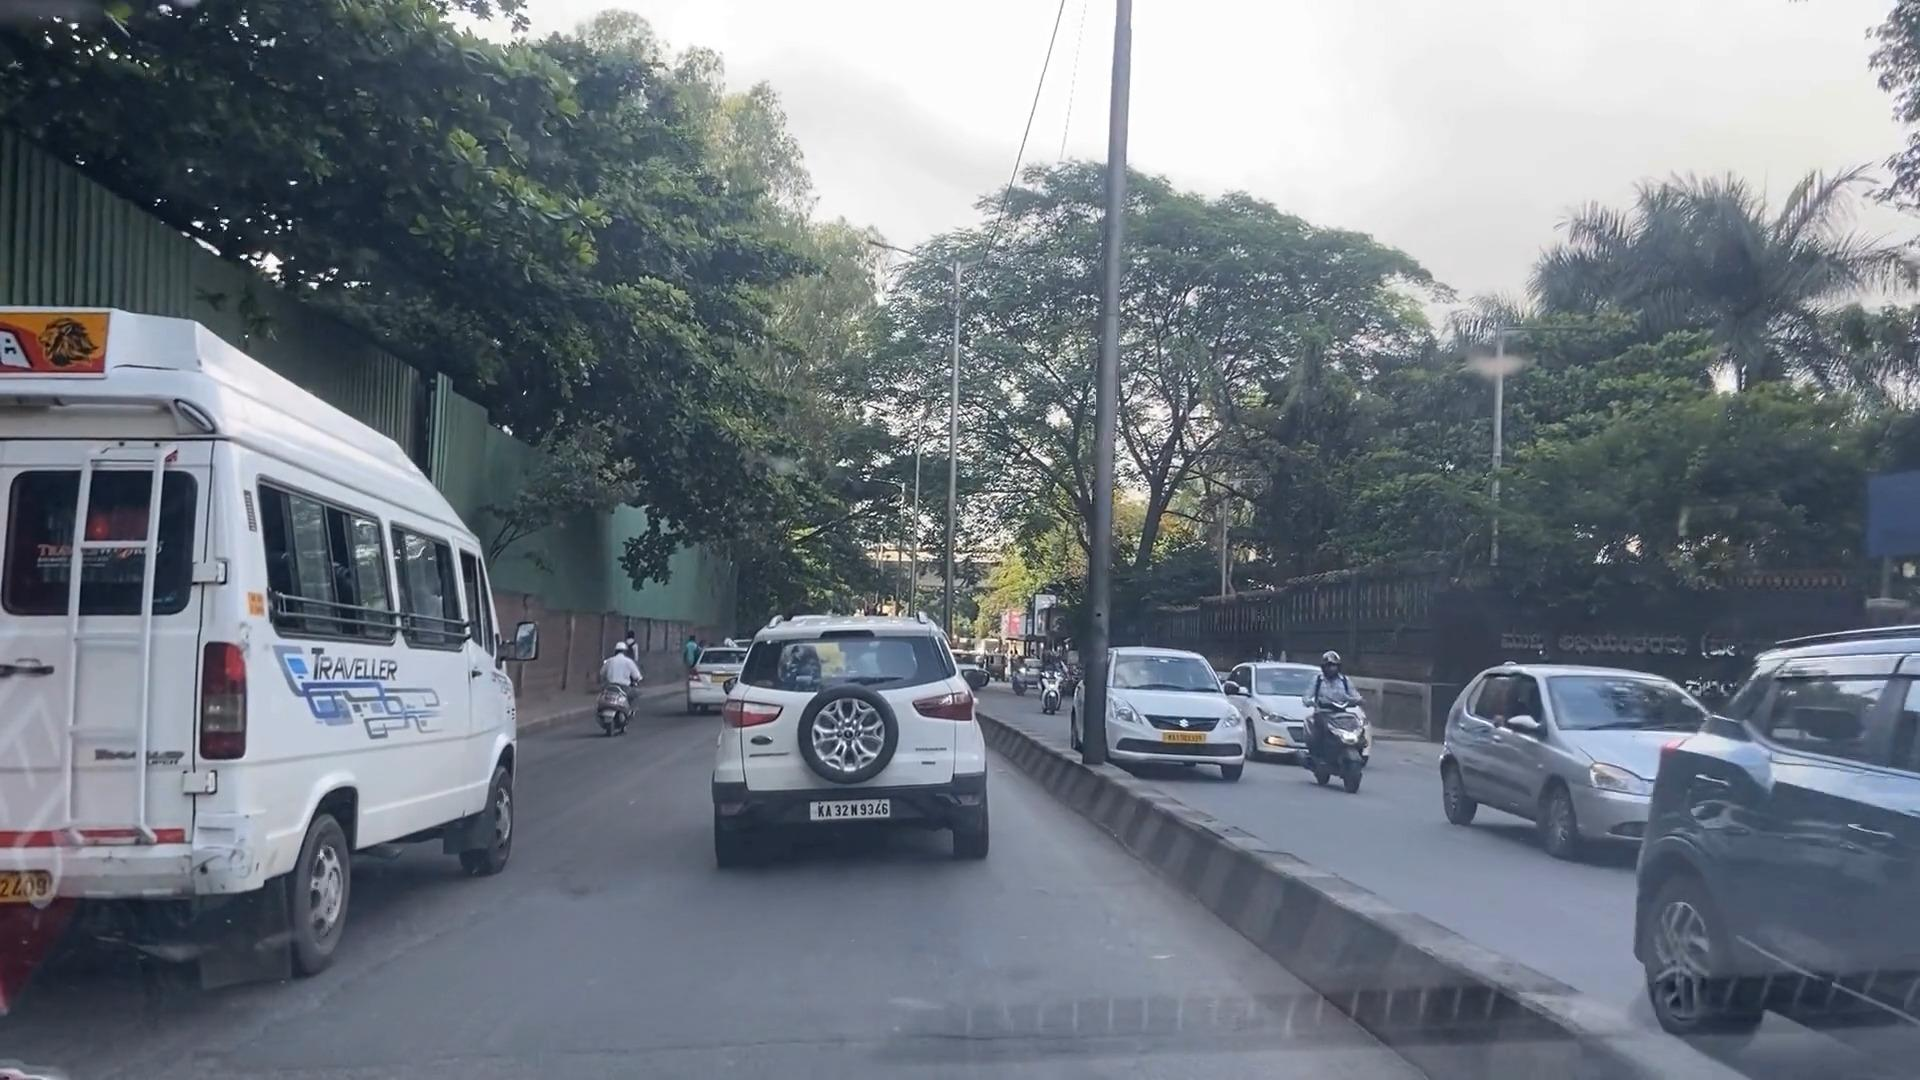HMV: (0, 331, 527, 952)
LMV: (695, 605, 1004, 898)
